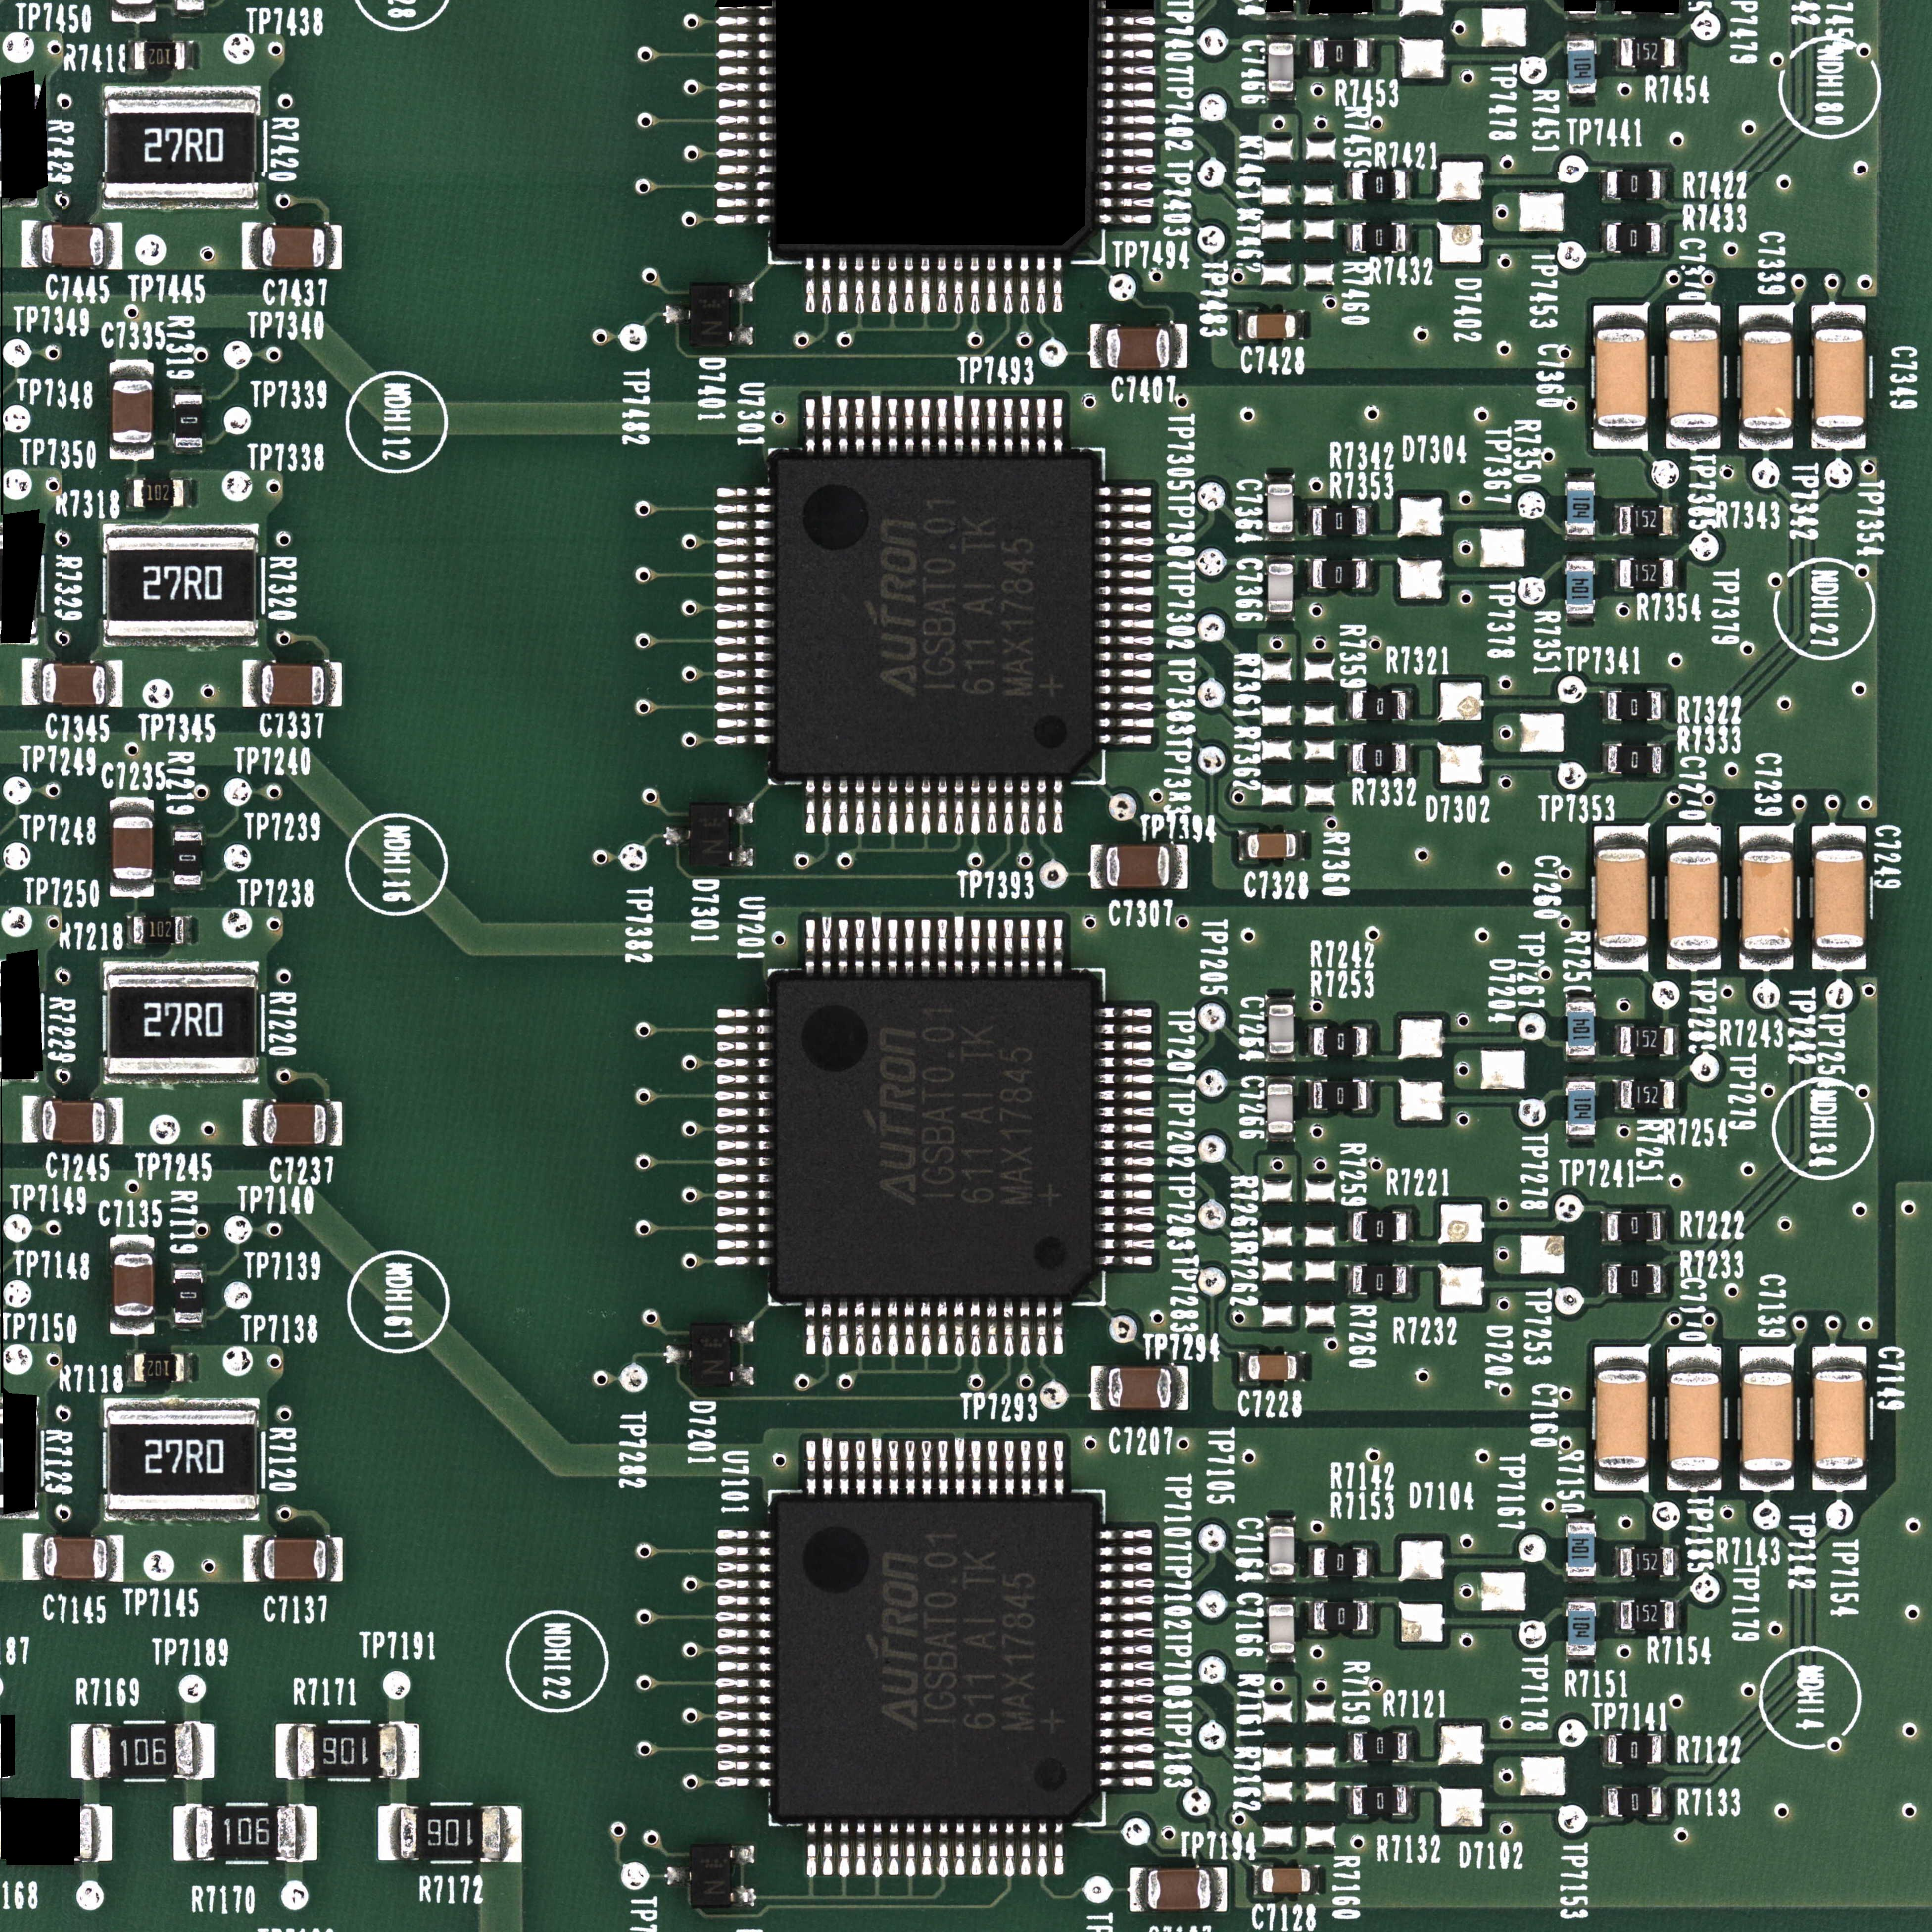Package: (775, 1500, 1093, 1817), (777, 980, 1093, 1295), (777, 460, 1092, 773), (106, 536, 257, 637), (108, 973, 255, 1076), (110, 1410, 258, 1511), (400, 1806, 501, 1859), (297, 1727, 398, 1778), (195, 1806, 295, 1858), (92, 1725, 193, 1776), (1813, 329, 1865, 428), (1596, 849, 1647, 948), (1668, 851, 1720, 950), (1813, 1371, 1865, 1468), (1596, 1371, 1647, 1468), (1743, 851, 1792, 950), (1668, 329, 1718, 428), (1815, 851, 1865, 948), (1596, 329, 1645, 426), (1743, 331, 1792, 428), (1743, 1373, 1792, 1470), (1670, 1373, 1720, 1470), (262, 226, 326, 267), (1106, 846, 1169, 886), (1106, 327, 1169, 368), (1108, 1368, 1171, 1408), (1146, 1868, 1210, 1909), (111, 380, 152, 442), (690, 285, 731, 347), (113, 1254, 154, 1316), (264, 1539, 327, 1578), (690, 805, 729, 867), (113, 817, 152, 879), (262, 665, 324, 704), (264, 1104, 326, 1143), (692, 1845, 729, 1907), (692, 1325, 729, 1387), (1566, 1001, 1594, 1056), (173, 832, 202, 885), (1568, 41, 1596, 94), (1608, 692, 1661, 720), (1566, 561, 1594, 614), (1352, 172, 1405, 200), (1619, 506, 1672, 534), (1313, 508, 1366, 536), (1608, 1787, 1661, 1815), (1353, 1787, 1407, 1815), (1315, 1548, 1368, 1576), (1568, 1603, 1596, 1656), (1568, 1083, 1596, 1136), (1621, 1081, 1674, 1109), (1353, 1212, 1407, 1240), (1621, 1548, 1674, 1576), (1621, 1601, 1674, 1629), (1313, 41, 1368, 67), (1619, 561, 1674, 587), (1313, 1028, 1368, 1054), (1352, 1267, 1407, 1293), (1353, 692, 1405, 720), (175, 395, 202, 448), (175, 1270, 202, 1323), (1606, 172, 1660, 198), (1568, 481, 1594, 534), (1313, 561, 1366, 587), (1608, 747, 1661, 773), (1606, 225, 1660, 251), (1352, 745, 1405, 771), (1621, 39, 1674, 65), (1352, 225, 1405, 251), (1608, 1267, 1661, 1293), (1353, 1734, 1407, 1760), (1313, 1083, 1366, 1109), (1608, 1736, 1661, 1762), (1315, 1603, 1368, 1629), (1568, 1523, 1594, 1576), (1606, 1214, 1660, 1240), (1621, 1028, 1674, 1054), (133, 916, 184, 943), (133, 479, 184, 506), (134, 42, 184, 69), (134, 1353, 184, 1380), (1269, 42, 1293, 92), (1269, 563, 1293, 612), (1269, 1005, 1293, 1054), (1247, 833, 1295, 858), (1269, 485, 1293, 533), (1263, 1868, 1311, 1893), (1249, 1355, 1297, 1380), (1269, 1085, 1293, 1132), (1269, 1605, 1293, 1652), (1269, 1527, 1293, 1575), (1247, 315, 1295, 338)
Solder: (103, 635, 262, 649), (104, 961, 260, 975), (104, 1396, 260, 1410), (106, 85, 260, 99), (103, 524, 260, 536), (106, 1509, 262, 1522), (103, 198, 257, 211), (104, 1074, 257, 1086), (1812, 824, 1867, 849), (1667, 826, 1721, 851), (1739, 1346, 1794, 1371), (1812, 1346, 1867, 1371), (1739, 304, 1792, 329), (1739, 826, 1794, 849), (1812, 948, 1867, 971), (1594, 1346, 1649, 1369), (1667, 1348, 1721, 1371), (1594, 304, 1647, 327), (1812, 304, 1865, 327), (1667, 304, 1720, 327), (276, 1723, 297, 1780), (501, 1806, 522, 1863), (379, 1806, 400, 1861), (173, 1806, 195, 1861), (398, 1723, 419, 1778), (71, 1725, 92, 1780), (193, 1723, 214, 1778), (1594, 428, 1649, 449), (1812, 428, 1867, 449), (1667, 428, 1721, 449), (1594, 826, 1649, 847), (1594, 948, 1649, 970), (1739, 950, 1794, 971), (1667, 950, 1721, 971), (1594, 1470, 1649, 1491), (1812, 1470, 1867, 1491), (92, 1806, 111, 1863), (297, 1806, 317, 1861), (1739, 430, 1794, 449), (1739, 1472, 1794, 1491), (1667, 1472, 1721, 1491), (110, 4, 157, 23), (1033, 257, 1049, 315), (835, 257, 851, 315), (713, 14, 778, 28), (713, 30, 778, 44), (713, 48, 778, 62), (713, 80, 777, 94), (21, 221, 41, 267), (242, 1100, 262, 1146), (23, 1534, 42, 1580), (715, 147, 777, 161), (713, 212, 775, 226), (819, 257, 833, 317), (242, 660, 260, 708), (1051, 257, 1065, 315), (1017, 257, 1031, 315), (1001, 257, 1016, 315), (985, 257, 1000, 315), (968, 257, 982, 315), (952, 257, 966, 315), (936, 257, 950, 315), (918, 257, 932, 315), (902, 257, 916, 315), (803, 257, 817, 315), (853, 257, 867, 315), (870, 257, 885, 315), (242, 223, 260, 269), (104, 223, 122, 269), (23, 1097, 41, 1143), (110, 1235, 156, 1253), (244, 1536, 262, 1582), (713, 64, 778, 76), (885, 257, 899, 313), (713, 115, 777, 127), (713, 180, 777, 193), (110, 361, 154, 379), (110, 442, 154, 460), (110, 798, 154, 816), (110, 879, 154, 897), (23, 660, 41, 704), (110, 1316, 154, 1334), (1090, 1366, 1108, 1410), (715, 97, 777, 110), (715, 131, 777, 143), (1095, 1221, 1155, 1233), (1095, 1759, 1155, 1771), (715, 617, 775, 630), (715, 196, 775, 209), (106, 1099, 122, 1145), (108, 1536, 124, 1582), (1171, 844, 1187, 890), (1090, 844, 1106, 890), (1131, 1867, 1146, 1913), (715, 487, 773, 499), (837, 918, 849, 977), (936, 918, 948, 977), (715, 1155, 773, 1168), (1097, 1205, 1155, 1217), (1097, 1155, 1155, 1168), (1097, 1171, 1155, 1184), (1095, 1254, 1154, 1267), (1097, 1056, 1155, 1069), (715, 732, 773, 745), (717, 717, 775, 729), (715, 633, 773, 646), (717, 518, 775, 531), (715, 534, 773, 547), (1099, 14, 1157, 27), (1099, 32, 1157, 44), (1099, 113, 1157, 126), (1099, 131, 1157, 143), (1099, 147, 1157, 159), (1099, 198, 1157, 211), (1099, 214, 1157, 226), (1099, 180, 1157, 193), (326, 225, 341, 269), (106, 662, 122, 706), (326, 662, 341, 706), (327, 1537, 343, 1582), (1171, 324, 1187, 368), (1090, 324, 1106, 368), (1173, 1366, 1189, 1410), (1212, 1867, 1228, 1911), (970, 1300, 982, 1357), (904, 1440, 916, 1497), (805, 1440, 817, 1497), (717, 1693, 773, 1706), (717, 1661, 773, 1674), (1097, 617, 1154, 630), (1097, 568, 1154, 580), (1097, 667, 1154, 679), (1099, 717, 1155, 729), (1019, 778, 1031, 835), (970, 778, 982, 835), (1019, 1300, 1031, 1357), (1097, 1122, 1154, 1134), (1095, 1007, 1152, 1019), (1097, 1106, 1154, 1118), (870, 778, 883, 835), (920, 778, 932, 835), (837, 778, 849, 835), (717, 683, 773, 695), (1100, 48, 1157, 60), (1100, 65, 1157, 78), (1100, 80, 1157, 92), (1100, 97, 1157, 110), (954, 1821, 966, 1875), (1097, 518, 1152, 531), (1097, 1023, 1152, 1035), (870, 916, 881, 978), (327, 1100, 341, 1146), (954, 916, 964, 977), (821, 916, 832, 977), (715, 1189, 775, 1200), (713, 1776, 773, 1787), (1095, 1238, 1155, 1249), (1095, 1139, 1155, 1150), (1095, 1744, 1155, 1755), (1095, 1578, 1155, 1589), (1095, 1661, 1155, 1672), (715, 602, 775, 612), (715, 504, 775, 515), (715, 552, 775, 563), (715, 568, 775, 579), (855, 918, 865, 977), (886, 918, 897, 977), (904, 918, 915, 977), (920, 918, 931, 977), (805, 918, 816, 977), (970, 918, 980, 977), (855, 1299, 865, 1357), (888, 1299, 899, 1357), (715, 1123, 773, 1134), (821, 1299, 832, 1357), (715, 1223, 773, 1233), (717, 1173, 775, 1184), (717, 1238, 775, 1249), (715, 1024, 773, 1035), (715, 1058, 773, 1069), (715, 1090, 773, 1100), (954, 1438, 964, 1497), (872, 1438, 883, 1497), (823, 1438, 833, 1497), (839, 1819, 849, 1877), (807, 1819, 817, 1877), (715, 1711, 773, 1721), (715, 1578, 773, 1589), (715, 1743, 773, 1753), (715, 1677, 773, 1688), (715, 1546, 773, 1557), (715, 1645, 773, 1656), (987, 918, 998, 977), (1037, 918, 1047, 977), (1097, 635, 1155, 646), (1097, 651, 1155, 662), (1097, 685, 1155, 695), (1097, 701, 1155, 711), (1097, 1074, 1155, 1085), (1003, 1440, 1014, 1499), (1053, 1440, 1063, 1499), (1095, 1612, 1154, 1622), (1095, 1776, 1154, 1787), (1097, 1727, 1155, 1737), (1097, 1695, 1155, 1706), (1097, 1596, 1155, 1606), (1095, 1645, 1154, 1656), (1095, 1562, 1154, 1573), (1097, 734, 1155, 745), (715, 701, 773, 711), (717, 586, 775, 596), (870, 396, 881, 453), (954, 396, 964, 453), (821, 396, 832, 453), (839, 1299, 849, 1355), (870, 1299, 881, 1355), (805, 1299, 816, 1355), (904, 1299, 915, 1355), (717, 1139, 773, 1150), (717, 1040, 773, 1051), (717, 1008, 773, 1019), (954, 1300, 964, 1357), (717, 1074, 773, 1085), (717, 1108, 773, 1118), (971, 1440, 982, 1497), (938, 1440, 948, 1497), (888, 1440, 899, 1497), (922, 1440, 932, 1497), (855, 1440, 865, 1497), (839, 1440, 849, 1497), (872, 1819, 883, 1875), (938, 1821, 948, 1877), (717, 1628, 773, 1638), (717, 1727, 773, 1737), (717, 1760, 773, 1771), (717, 1562, 773, 1573), (717, 1612, 773, 1622), (1019, 398, 1030, 455), (1037, 398, 1047, 455), (1053, 398, 1063, 455), (1003, 920, 1014, 977), (1053, 920, 1063, 977), (1019, 920, 1030, 977), (1097, 586, 1154, 596), (1097, 602, 1154, 612), (1097, 552, 1154, 563), (1097, 536, 1154, 547), (1003, 778, 1014, 835), (954, 778, 964, 835), (1037, 778, 1047, 835), (1003, 1300, 1014, 1357), (1095, 1040, 1152, 1051), (1097, 1189, 1154, 1200), (1037, 1300, 1047, 1357), (1097, 1090, 1154, 1100), (987, 1440, 998, 1497), (1021, 1440, 1031, 1497), (1037, 1440, 1047, 1497), (1037, 1821, 1047, 1877), (1097, 1711, 1154, 1721), (1005, 1821, 1016, 1877), (1021, 1819, 1031, 1875), (1095, 1529, 1152, 1539), (1095, 1546, 1152, 1557), (855, 778, 865, 835), (888, 778, 899, 835), (904, 778, 915, 835), (938, 778, 948, 835), (821, 778, 832, 835), (805, 778, 816, 835), (717, 651, 773, 662), (920, 398, 931, 453), (904, 398, 915, 453), (855, 398, 865, 453), (970, 398, 980, 453), (805, 398, 816, 453), (839, 398, 849, 453), (920, 1300, 931, 1355), (938, 1300, 948, 1355), (823, 1821, 833, 1875), (856, 1821, 867, 1875), (888, 1821, 899, 1875), (906, 1821, 916, 1875), (922, 1821, 932, 1875), (971, 1821, 982, 1875), (1003, 398, 1014, 453), (1097, 487, 1152, 497), (1097, 502, 1152, 513), (987, 778, 998, 833), (987, 1300, 998, 1355), (1053, 1300, 1063, 1355), (987, 1821, 998, 1875), (717, 667, 771, 678), (1053, 1822, 1063, 1875), (662, 304, 690, 324), (663, 1345, 692, 1364), (715, 1256, 775, 1265), (1095, 1679, 1155, 1688), (729, 803, 754, 824), (663, 826, 690, 846), (717, 1207, 775, 1215), (665, 1867, 692, 1886), (1095, 1629, 1154, 1638), (717, 1596, 773, 1605), (717, 1530, 773, 1539), (731, 1322, 754, 1343), (888, 398, 897, 453), (938, 398, 947, 453), (987, 398, 996, 453), (729, 326, 754, 345), (729, 283, 754, 303), (729, 847, 754, 867), (731, 1888, 755, 1907), (731, 1366, 754, 1385), (731, 1845, 754, 1863), (1237, 830, 1247, 862), (1265, 1652, 1297, 1663), (1265, 1516, 1297, 1527), (182, 478, 193, 508), (1237, 310, 1247, 340), (1295, 310, 1306, 340), (1265, 1132, 1295, 1143), (1265, 994, 1295, 1005), (1297, 1352, 1307, 1382), (1568, 94, 1598, 104), (1610, 559, 1621, 589), (1304, 557, 1313, 591), (1366, 557, 1375, 591), (1366, 1079, 1375, 1113), (1304, 1599, 1313, 1633), (184, 1352, 193, 1384), (1306, 37, 1315, 69), (1343, 221, 1352, 253), (1343, 743, 1352, 775), (1297, 830, 1306, 862), (1343, 1263, 1352, 1295), (1345, 1210, 1353, 1242), (1564, 32, 1596, 41), (1564, 552, 1596, 561), (1564, 1074, 1596, 1083), (1612, 1024, 1621, 1056), (1612, 1079, 1621, 1111), (1612, 1599, 1621, 1631), (1612, 1546, 1621, 1578), (1564, 1594, 1596, 1603), (1566, 14, 1598, 23), (186, 41, 195, 71), (184, 915, 193, 945), (1265, 474, 1295, 483), (1267, 92, 1297, 101), (1267, 34, 1297, 42), (1405, 223, 1414, 253), (1265, 612, 1295, 621), (1265, 533, 1295, 541), (1238, 1352, 1247, 1382), (1311, 1865, 1320, 1895), (1253, 1865, 1261, 1895), (1267, 1596, 1297, 1605), (1566, 472, 1596, 481), (1612, 37, 1621, 67), (1566, 993, 1596, 1001), (1566, 1514, 1596, 1523), (1599, 1734, 1608, 1764), (1267, 1053, 1295, 1062), (1267, 1575, 1295, 1583), (1267, 12, 1295, 21), (1366, 504, 1373, 538), (1306, 1079, 1313, 1113), (1368, 1599, 1375, 1633), (1674, 1545, 1681, 1578), (172, 448, 203, 455), (127, 39, 134, 71), (172, 885, 203, 892), (172, 1323, 203, 1330), (172, 1261, 203, 1269), (126, 1352, 133, 1384), (1368, 37, 1375, 69), (1345, 170, 1352, 202), (1345, 690, 1352, 722), (1306, 506, 1313, 538), (1407, 690, 1414, 722), (1407, 743, 1414, 775), (1306, 1026, 1313, 1058), (1368, 1546, 1375, 1578), (1345, 1785, 1352, 1817), (1346, 1730, 1353, 1762), (1599, 690, 1606, 722), (1601, 743, 1608, 775), (1612, 504, 1619, 536), (1564, 534, 1596, 541), (1599, 1210, 1606, 1242), (1564, 1054, 1596, 1062), (1601, 1263, 1608, 1295), (1661, 1785, 1668, 1817), (1564, 1575, 1596, 1582), (1674, 1599, 1681, 1631), (1601, 1785, 1608, 1817), (173, 387, 203, 395), (126, 478, 133, 508), (126, 915, 133, 945), (173, 824, 203, 832), (1405, 170, 1412, 200), (1265, 556, 1295, 563), (1407, 1265, 1414, 1295), (1407, 1212, 1414, 1242), (1407, 1732, 1414, 1762), (1407, 1785, 1414, 1815), (1599, 170, 1606, 200), (1660, 223, 1667, 253), (1674, 37, 1681, 67), (1566, 614, 1596, 621), (1566, 1136, 1596, 1143), (1566, 1656, 1596, 1663), (1267, 1076, 1295, 1083), (1368, 1024, 1373, 1058), (1307, 1546, 1313, 1578), (1674, 557, 1679, 589), (1674, 504, 1679, 536), (1661, 743, 1667, 775), (1661, 690, 1667, 722), (1674, 1079, 1679, 1111), (1674, 1024, 1679, 1056), (1661, 1210, 1667, 1242), (1661, 1263, 1667, 1295), (1661, 1732, 1667, 1764), (1601, 223, 1606, 253), (1661, 170, 1667, 200)
